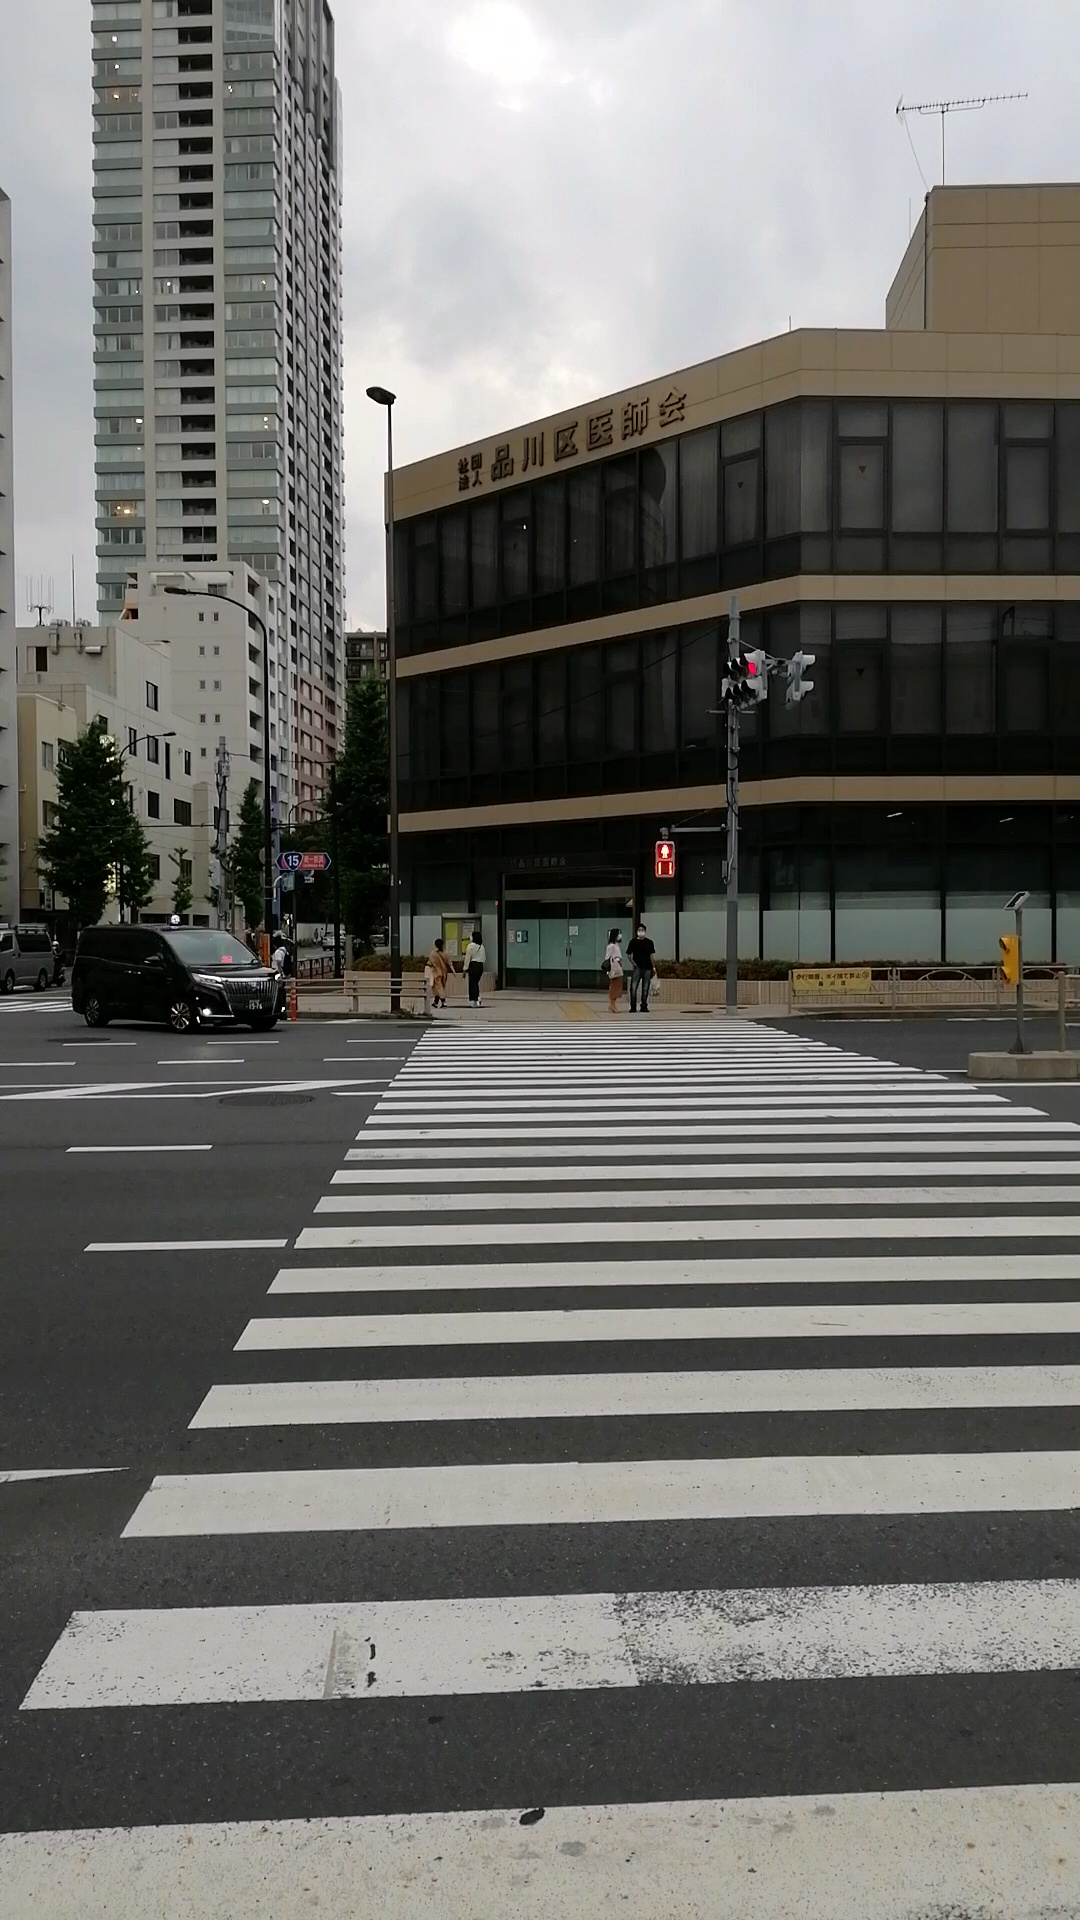red: (653, 839, 676, 876)
